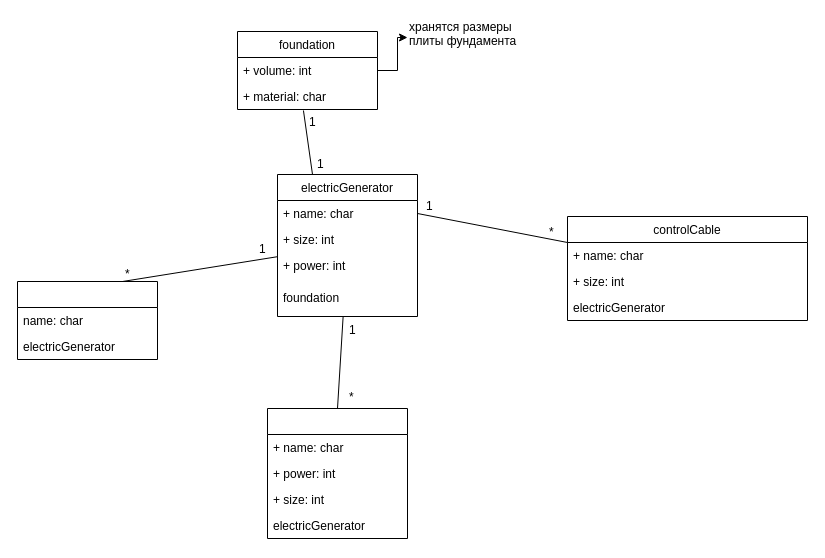
This 825x558 diagram has some shape labels left out. Here are the shapes that lost their labels. From the top down, the box of each, then its label:
(16, 280, 158, 360): turboBlocks
(266, 408, 408, 538): powerСable
